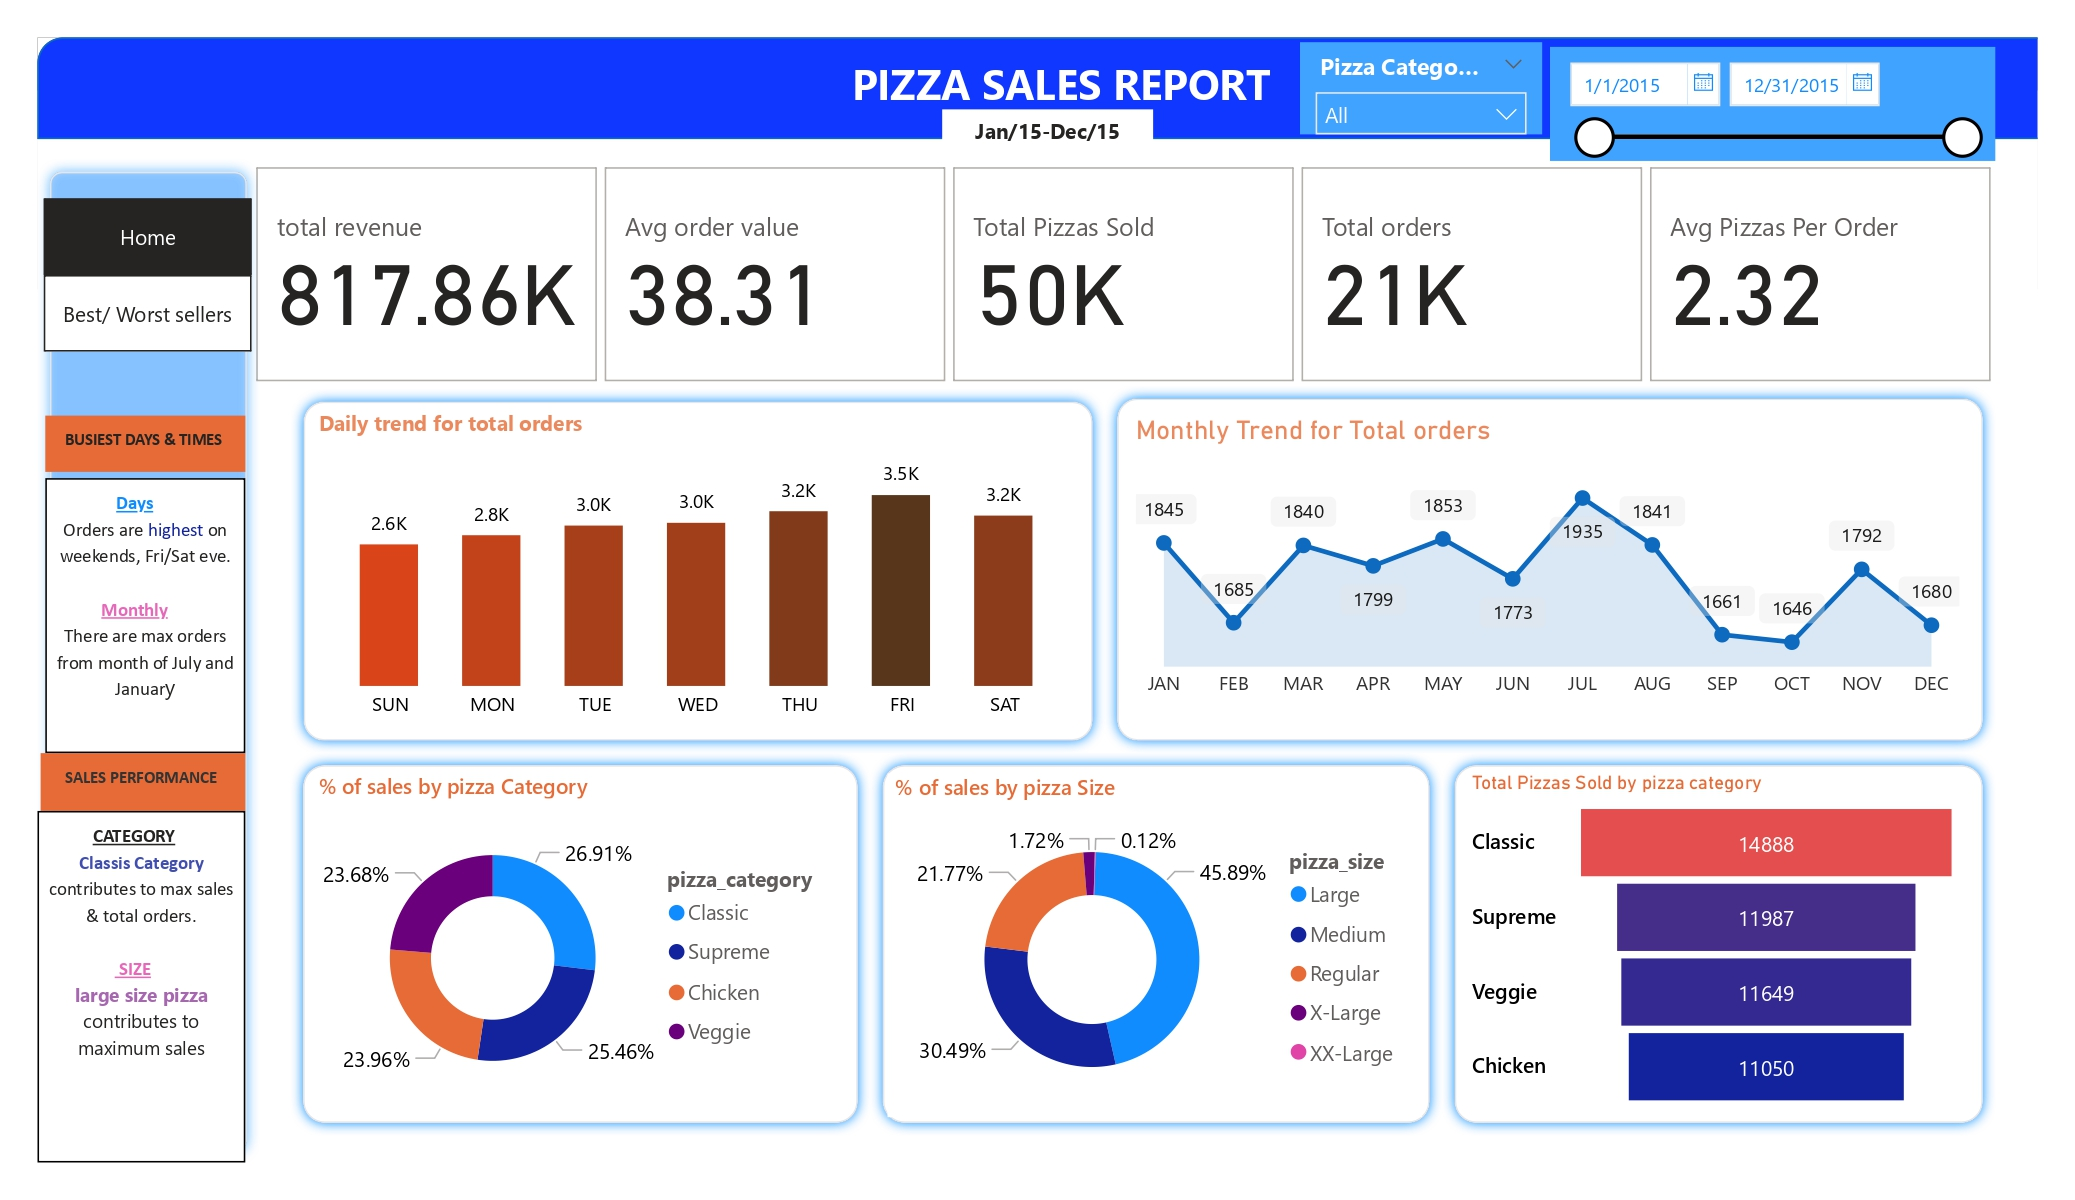

Layout of this report page (visuals, bound fields, positions):
{"tool":"powerbi","page":{"name":"Home","canvas":[1280,720],"ordinal":0},"visuals":[{"type":"cardVisual","fields":{"Data":["Pizza sales CSV file new.total revenue","Pizza sales CSV file new.Avg order value","Pizza sales CSV file new.Total Pizzas Sold","Pizza sales CSV file new.Total orders","Pizza sales CSV file new.Avg Pizzas Per Order"]},"box":[115,77.7,1164.2,147.3],"z":0},{"type":"shape","box":[0,0,1499.3,64.5],"z":1000},{"type":"textbox","box":[516.4,5.5,308,51.6],"z":2000},{"type":"textbox","box":[579.1,46.1,134.6,33.2],"z":3000},{"type":"shape","box":[161.9,225.1,521.4,233.2],"z":4000},{"type":"columnChart","title":"Daily trend for total orders ","fields":{"Y":["Pizza sales CSV file new.Total orders"],"Category":["Pizza sales CSV file new.Order Day"]},"box":[174.9,238,495.5,207.3],"z":5000},{"type":"shape","box":[683.3,223.5,570,234.8],"z":6000},{"type":"areaChart","title":"Monthly Trend for Total orders ","fields":{"Y":["Pizza sales CSV file new.Total orders"],"Category":["Pizza sales CSV file new.Order Month"]},"box":[697.9,241.3,537.6,191.1],"z":7000},{"type":"shape","box":[161.9,458.2,370.8,244.5],"z":8000},{"type":"shape","box":[532.7,458.2,365.9,244.5],"z":9000},{"type":"shape","box":[898.7,458.2,354.6,244.5],"z":10000},{"type":"donutChart","title":"% of sales by pizza Category ","fields":{"Category":["Pizza sales CSV file new.pizza_category"],"Y":["Pizza sales CSV file new.total revenue"]},"box":[174.9,469.6,341.7,220.2],"z":11000},{"type":"donutChart","title":"% of sales by pizza Size","fields":{"Y":["Pizza sales CSV file new.total revenue"],"Category":["Pizza sales CSV file new.pizza_size"]},"box":[544.1,471.2,341.7,220.2],"z":12000},{"type":"funnel","title":"Total Pizzas Sold by pizza category","fields":{"Category":["Pizza sales CSV file new.pizza_category"],"Y":["Pizza sales CSV file new.Total Pizzas Sold"]},"box":[913.2,469.6,322.2,220.2],"z":13000},{"type":"shape","box":[0,77.7,142.5,642.8],"z":14000},{"type":"textbox","box":[5,241.7,128.3,36.7],"z":15000},{"type":"textbox","box":[5,281.7,128.3,176.7],"z":16000},{"type":"textbox","box":[1.7,458.3,131.7,36.7],"z":17000},{"type":"textbox","box":[0,495,133.3,225],"z":18000},{"type":"slicer","fields":{"Values":["Pizza sales CSV file new.pizza_category"]},"box":[808.3,3.3,155,58.3],"z":19000},{"type":"slicer","fields":{"Values":["Pizza sales CSV file new.order_date"]},"box":[968.3,6.5,285,72.9],"z":20000},{"type":"pageNavigator","box":[3.8,102.8,133.3,49.5],"z":21000},{"type":"pageNavigator","box":[3.8,152.3,133.3,49.5],"z":22000}]}

Visuals, with their boxes in screenshot pixels (x1, y1, x2, y2):
cardVisual - Pizza sales CSV file new.total revenue x Pizza sales CSV file new.Avg order value: l=217, t=159, r=2036, b=389
shape: l=38, t=38, r=2038, b=138
textbox: l=844, t=46, r=1326, b=127
textbox: l=942, t=110, r=1153, b=161
shape: l=290, t=389, r=1105, b=754
"Daily trend for total orders " columnChart: l=311, t=409, r=1085, b=733
shape: l=1105, t=387, r=1996, b=754
"Monthly Trend for Total orders " areaChart: l=1128, t=415, r=1968, b=713
shape: l=290, t=753, r=870, b=1135
shape: l=870, t=753, r=1442, b=1135
shape: l=1442, t=753, r=1996, b=1135
"% of sales by pizza Category " donutChart: l=311, t=771, r=845, b=1115
"% of sales by pizza Size" donutChart: l=888, t=774, r=1422, b=1118
"Total Pizzas Sold by pizza category" funnel: l=1464, t=771, r=1968, b=1115
shape: l=38, t=159, r=260, b=1162
textbox: l=45, t=415, r=246, b=472
textbox: l=45, t=478, r=246, b=754
textbox: l=40, t=754, r=246, b=811
textbox: l=38, t=811, r=246, b=1162
slicer - Pizza sales CSV file new.pizza_category: l=1300, t=43, r=1543, b=134
slicer - Pizza sales CSV file new.order_date: l=1550, t=48, r=1996, b=162
pageNavigator: l=43, t=198, r=252, b=275
pageNavigator: l=43, t=275, r=252, b=353
